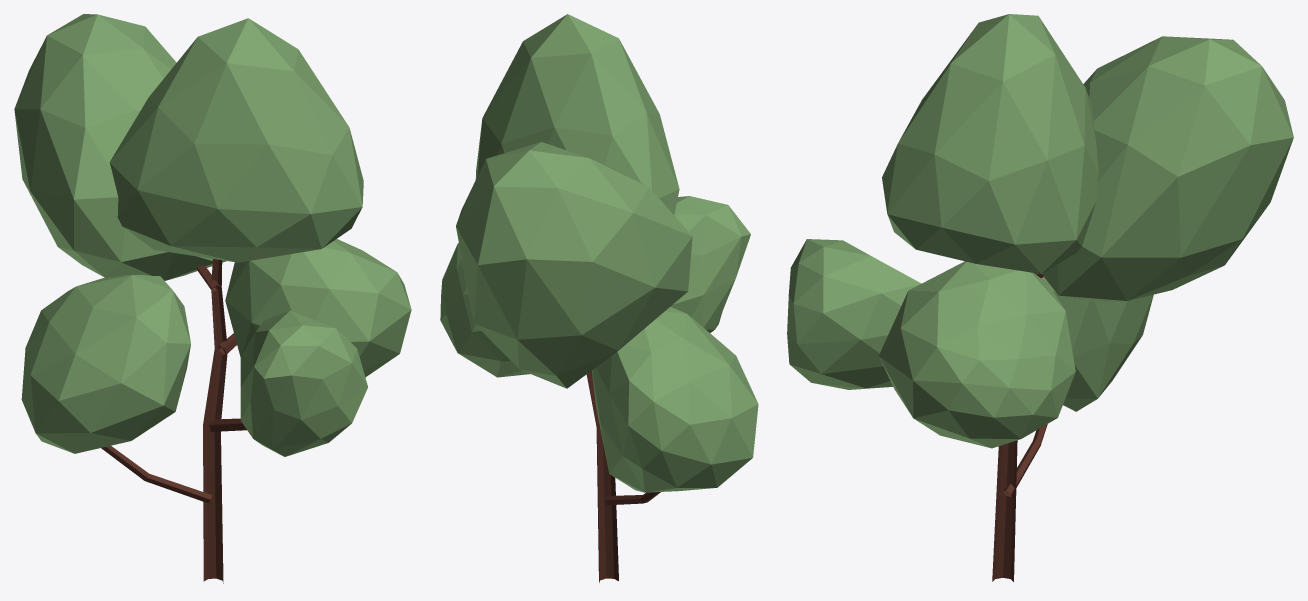
File: tree.glb
The picture shows the model from 3 angles, left to right: view 1: azimuth 30°, elevation 25°; view 2: azimuth 150°, elevation 25°; view 3: azimuth 270°, elevation 25°; orthographic projection. The views are drawn at different scales.
Visible parts, largest first — view 1: Birch1; view 2: Birch1; view 3: Birch1.
Boxes of the visible parts, x1,y1,x2,y2 form: Birch1: (14, 14, 411, 583); Birch1: (440, 14, 758, 582); Birch1: (787, 14, 1293, 581).
Size of the model in its own units: 4.89 by 7.81 by 6.1.
